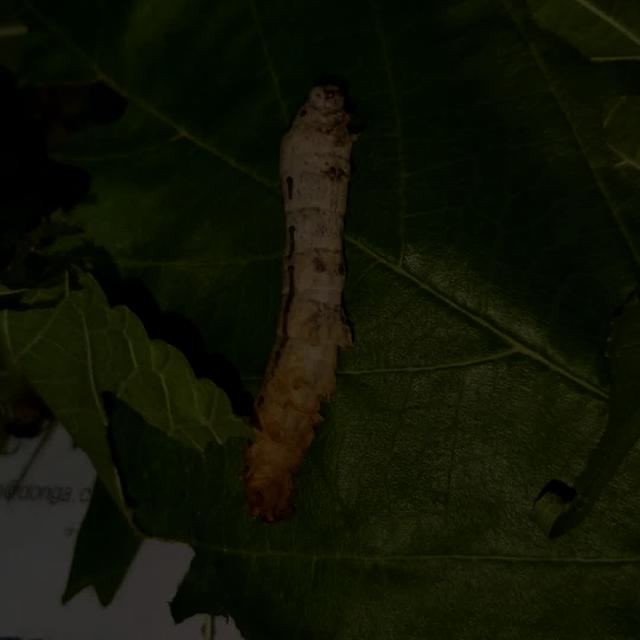Grasserie: (233, 58, 410, 541)
